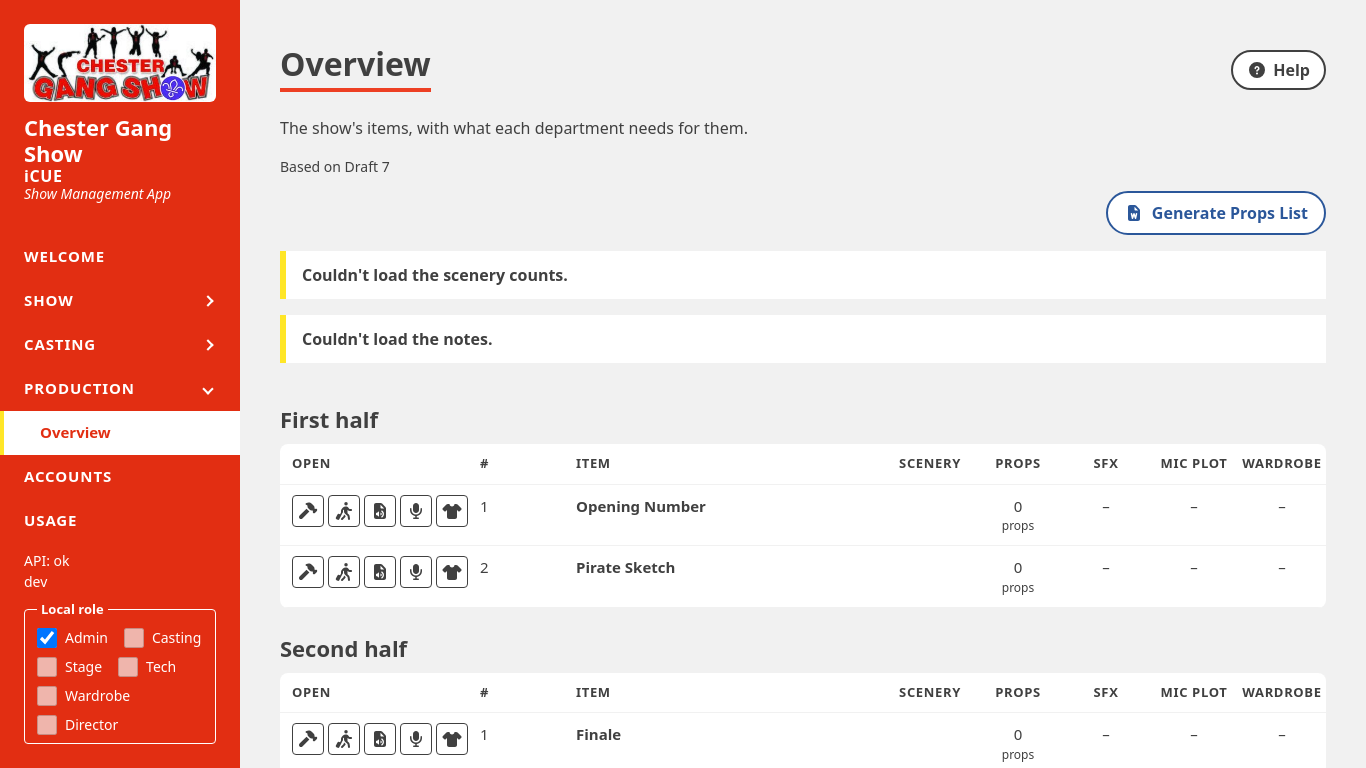
Test: A department's item page › opens the SFX page for the item, titled for both, coming soon
The image size is (1366, 768).
Click the 3rd link with class "icon-button" at (380, 510), box [364,494,396,526]
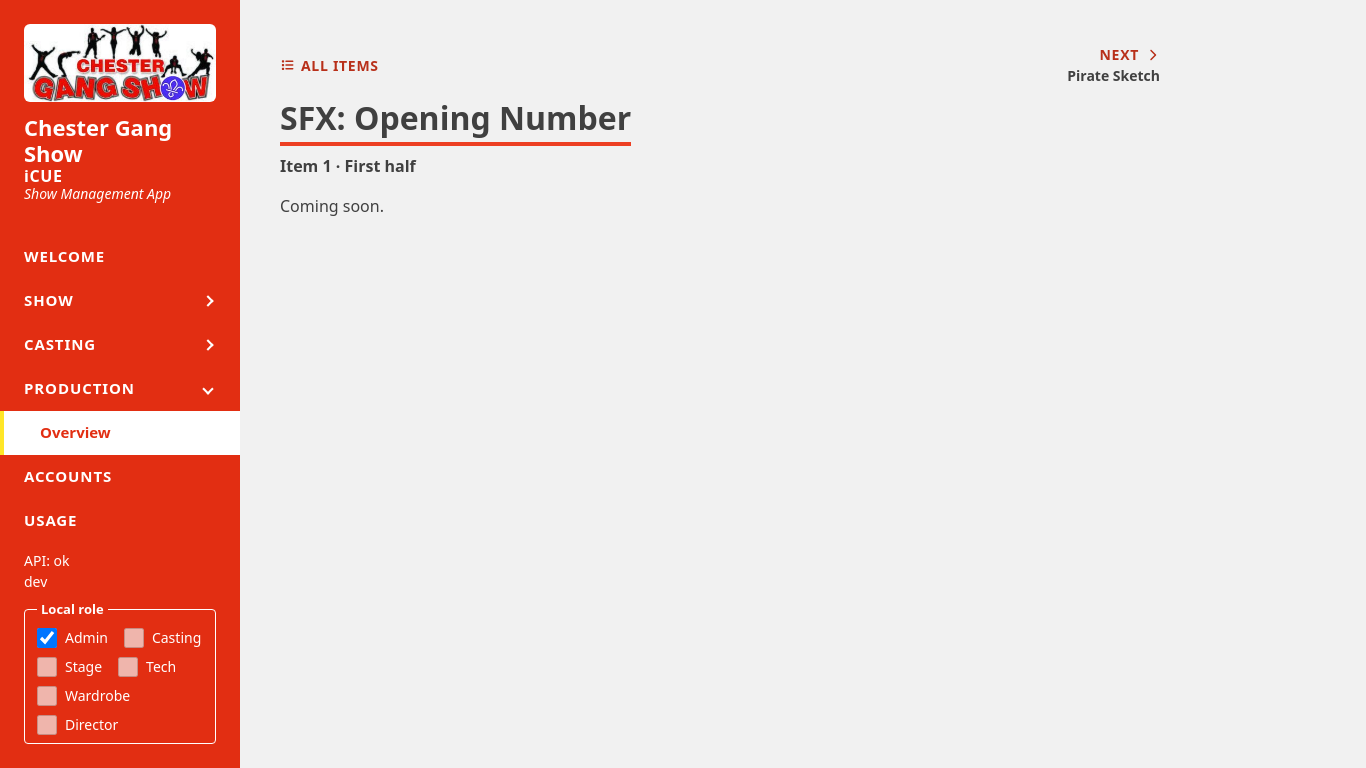
Expected: the element that starts with "All items" shows "Coming soon", [280,195,384,217]
